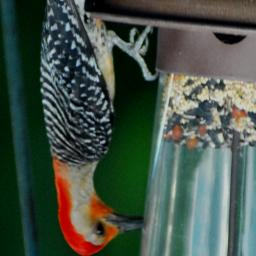Woodpecker: (34, 0, 157, 256)
